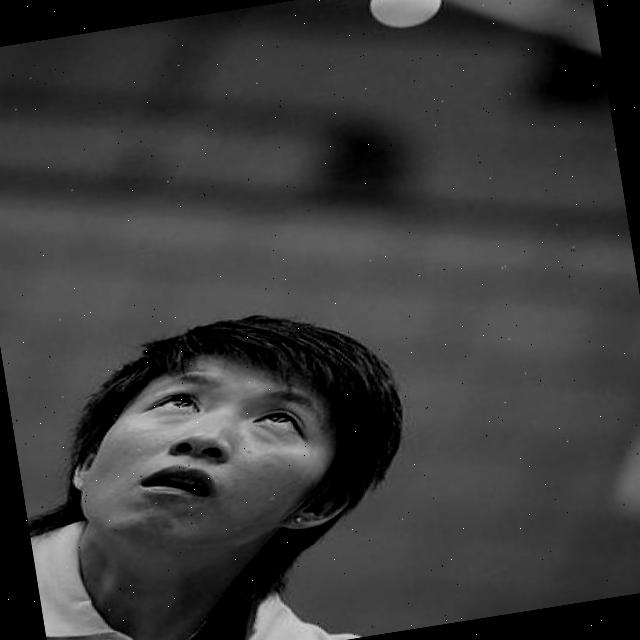ping-pong-ball: (366, 0, 448, 33)
